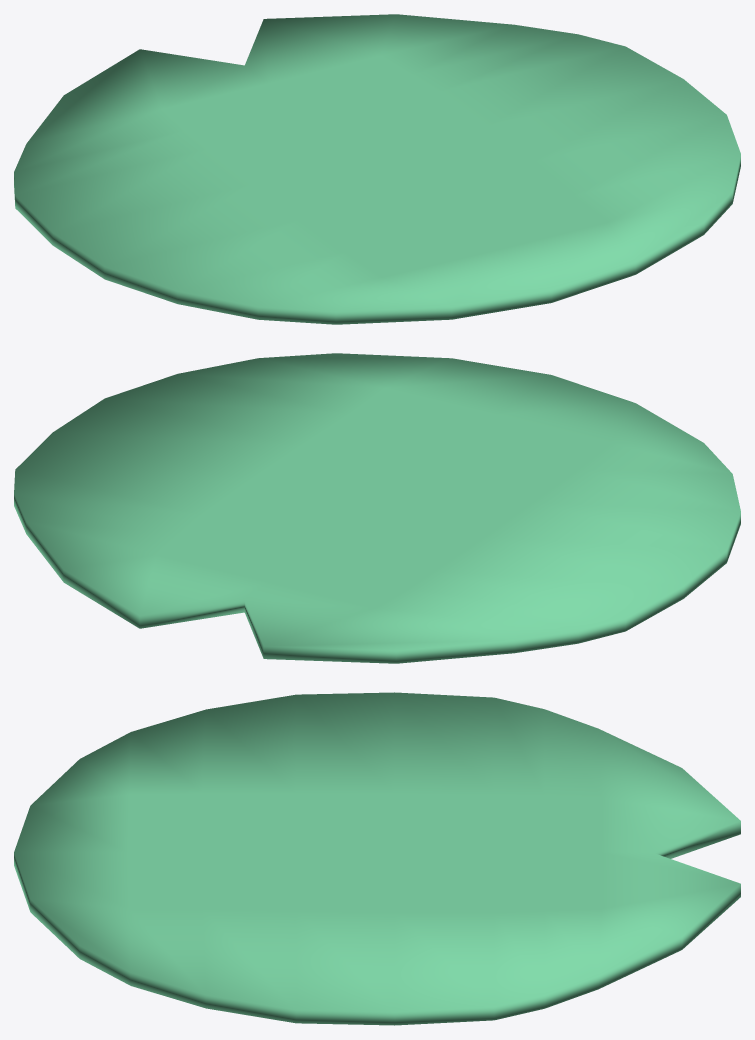
File: Lotus Leaf Blockout.fbx
3 views of the same model, one above another, from view 1: azimuth 30°, elevation 25°; view 2: azimuth 150°, elevation 25°; view 3: azimuth 270°, elevation 25° (orthographic). The views are drawn at different scales.
Parts seen in each view (by area): view 1: Plane.004; view 2: Plane.004; view 3: Plane.004.
Boxes of the visible parts, left/top/right/bottom form: Plane.004: left=14, top=14, right=740, bottom=324; Plane.004: left=14, top=353, right=740, bottom=663; Plane.004: left=14, top=692, right=740, bottom=1025.
Bounding box in the file's own units: 18.07 × 0.3519 × 17.37.
